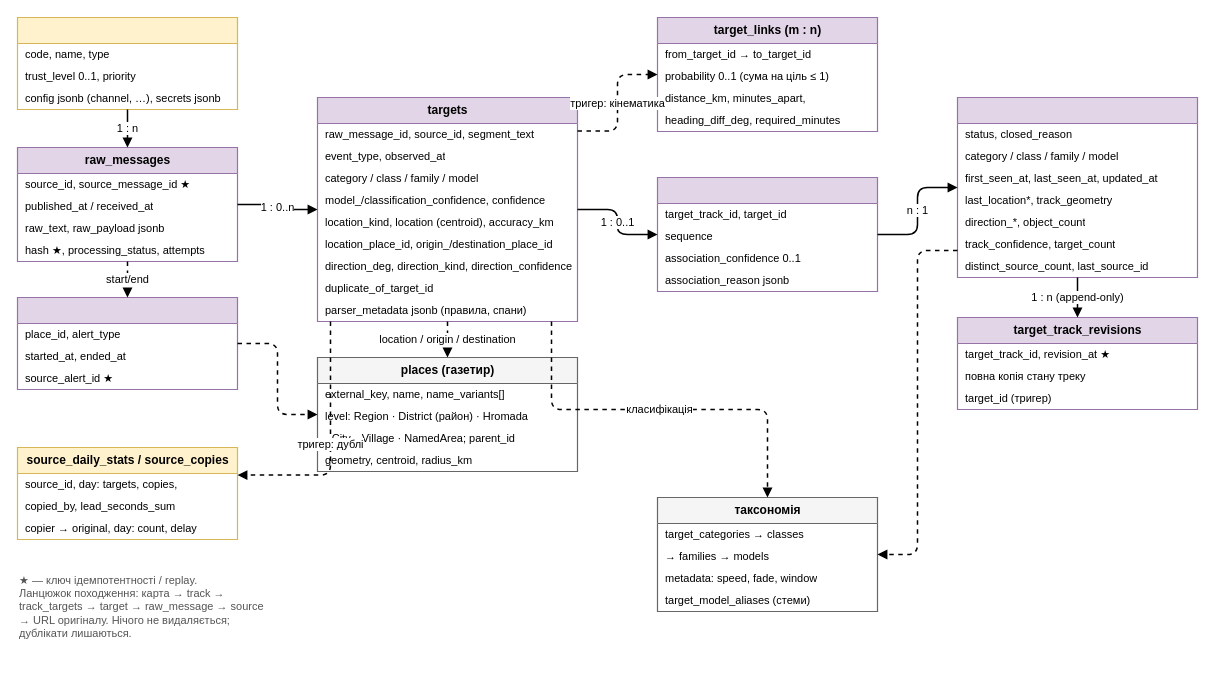
This 1216x675 diagram has some shape labels left out. The box of each missing label's shape, as (x1, y1, x2, y2) in pixels:
air_alerts: (16, 296, 238, 390)
sources: (16, 16, 238, 110)
target_tracks: (956, 96, 1198, 278)
track_targets: (656, 176, 878, 292)
